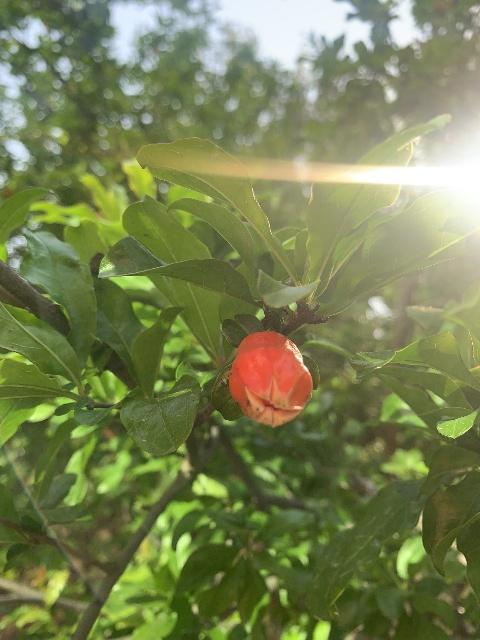flower: (228, 330, 312, 427)
